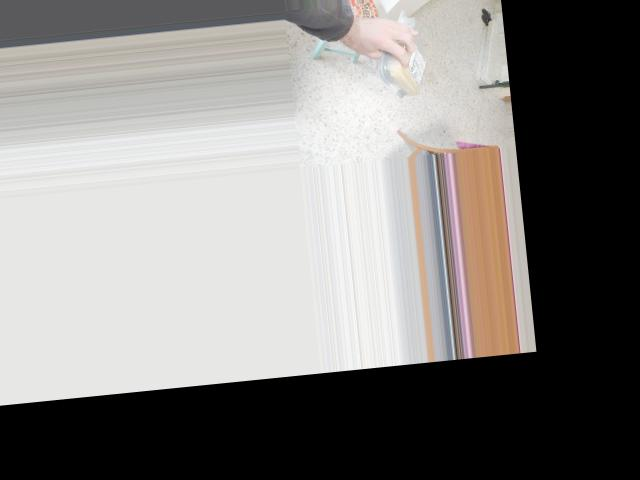cheese: (382, 32, 430, 101)
